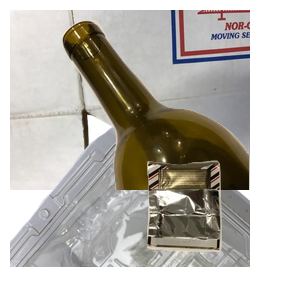cardboard: (10, 10, 250, 190)
glass: (60, 18, 300, 198)
plastic: (10, 120, 250, 300)
trash: (144, 158, 300, 300)
